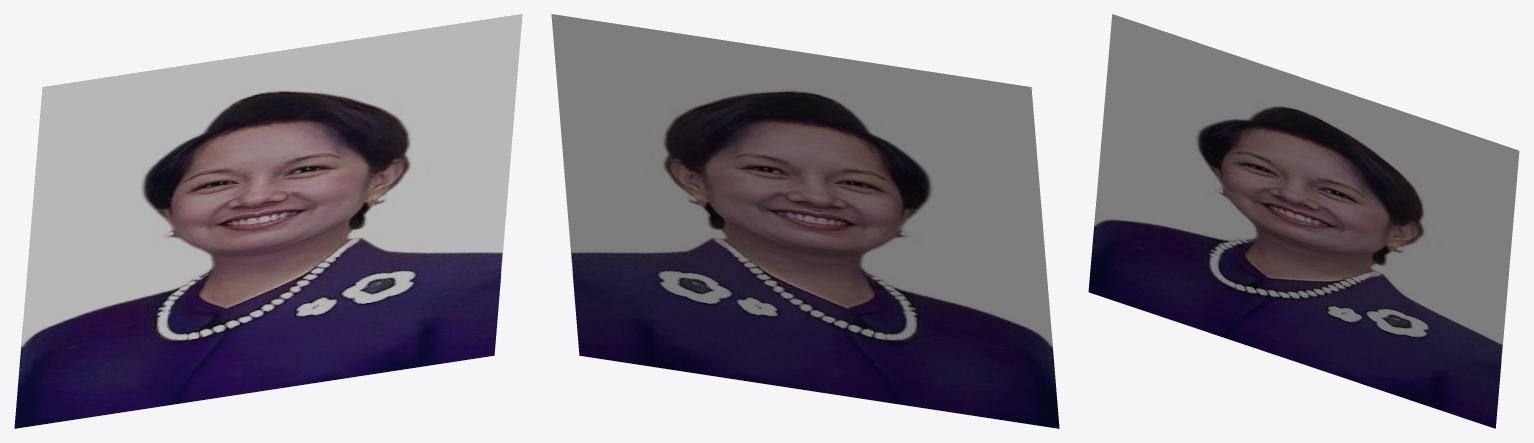
File: Diosdado(female).glb
The picture shows the model from 3 angles, left to right: view 1: azimuth 30°, elevation 25°; view 2: azimuth 150°, elevation 25°; view 3: azimuth 330°, elevation 25°; orthographic projection. The views are drawn at different scales.
Parts seen in each view (by area): view 1: Plane; view 2: Plane; view 3: Plane.
Boxes of the visible parts, x1,y1,x2,y2 form: Plane: (14, 14, 522, 428); Plane: (551, 14, 1059, 428); Plane: (1088, 14, 1519, 428).
Bounding box in the file's own units: 2.53 × 1.8 × 1.95e-08.
Materials: 1 (1 with a texture image).
